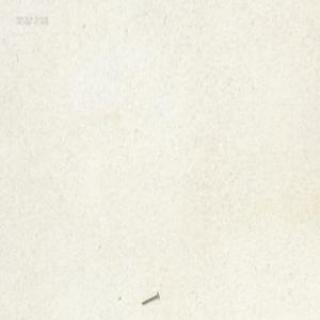Bolttrack_idkeyframe: (139, 291, 158, 305)
